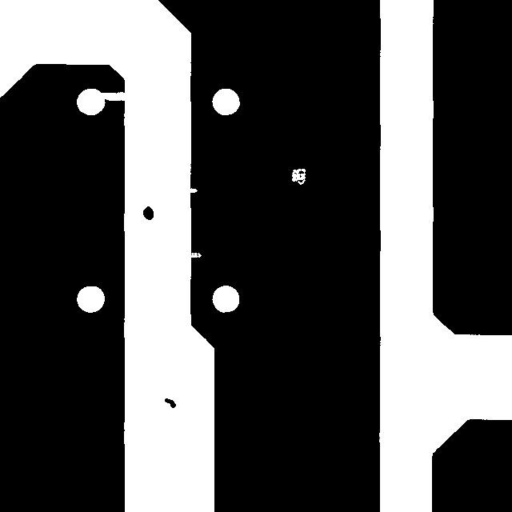copper: (135, 198, 161, 227), (157, 390, 183, 415)
mousebite: (180, 245, 209, 265), (179, 180, 205, 200)
open: (92, 84, 136, 108)
pin-hole: (284, 161, 313, 192)
